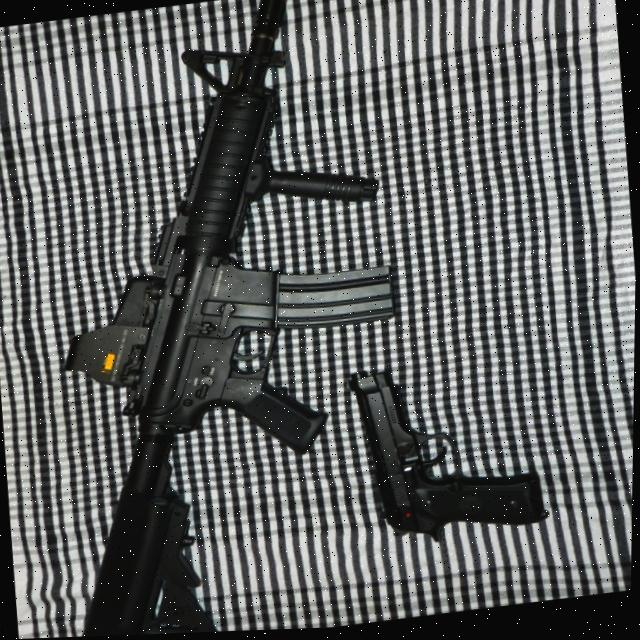firearm: (25, 0, 428, 639)
pistol: (345, 355, 547, 552)
